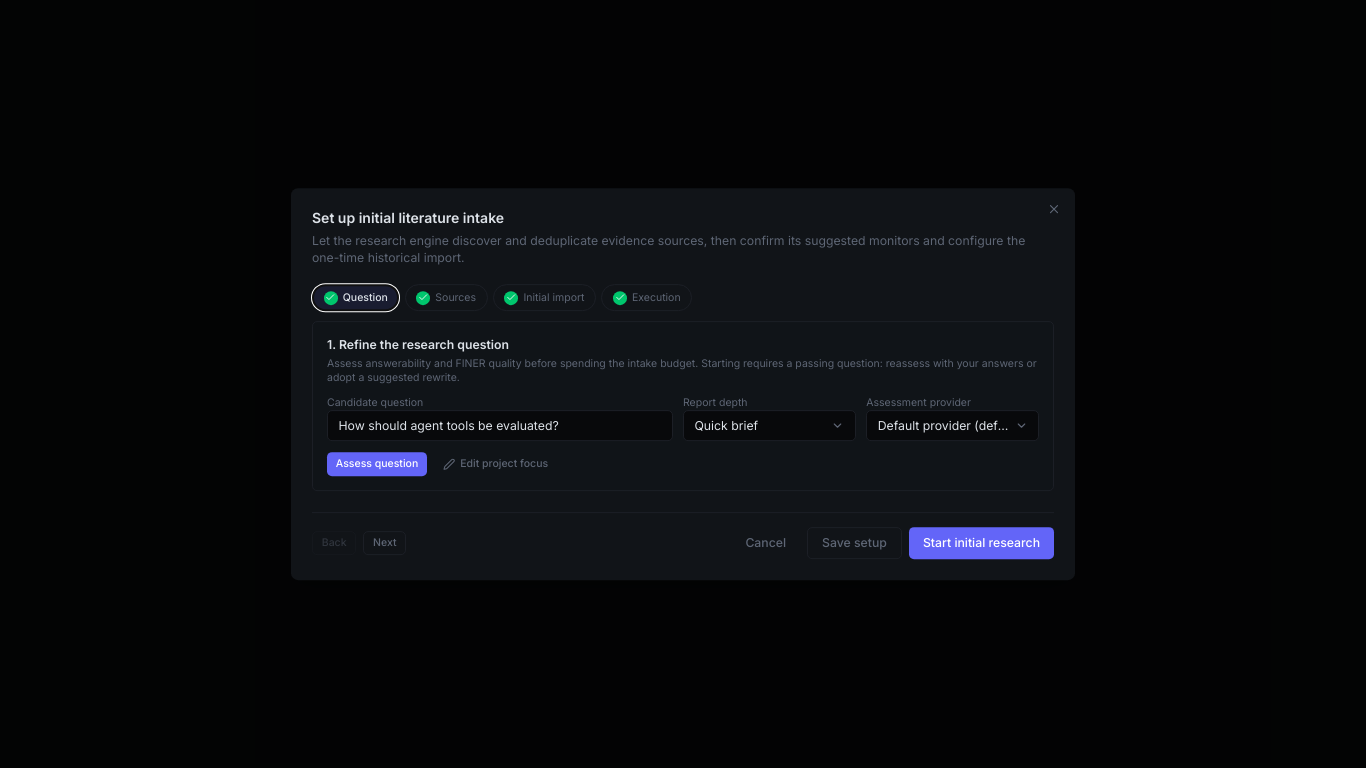
Scenario: ResearchSetupDialog › preselects the space default provider and its default model when the draft has none
Expected: the text "Default provider (default)" is shown, [878,417,1009,434]
Expected: the button "Assess question" is enabled, [327,452,427,476]
Click the button "Execution" at (647, 298), box [601,284,692,311]
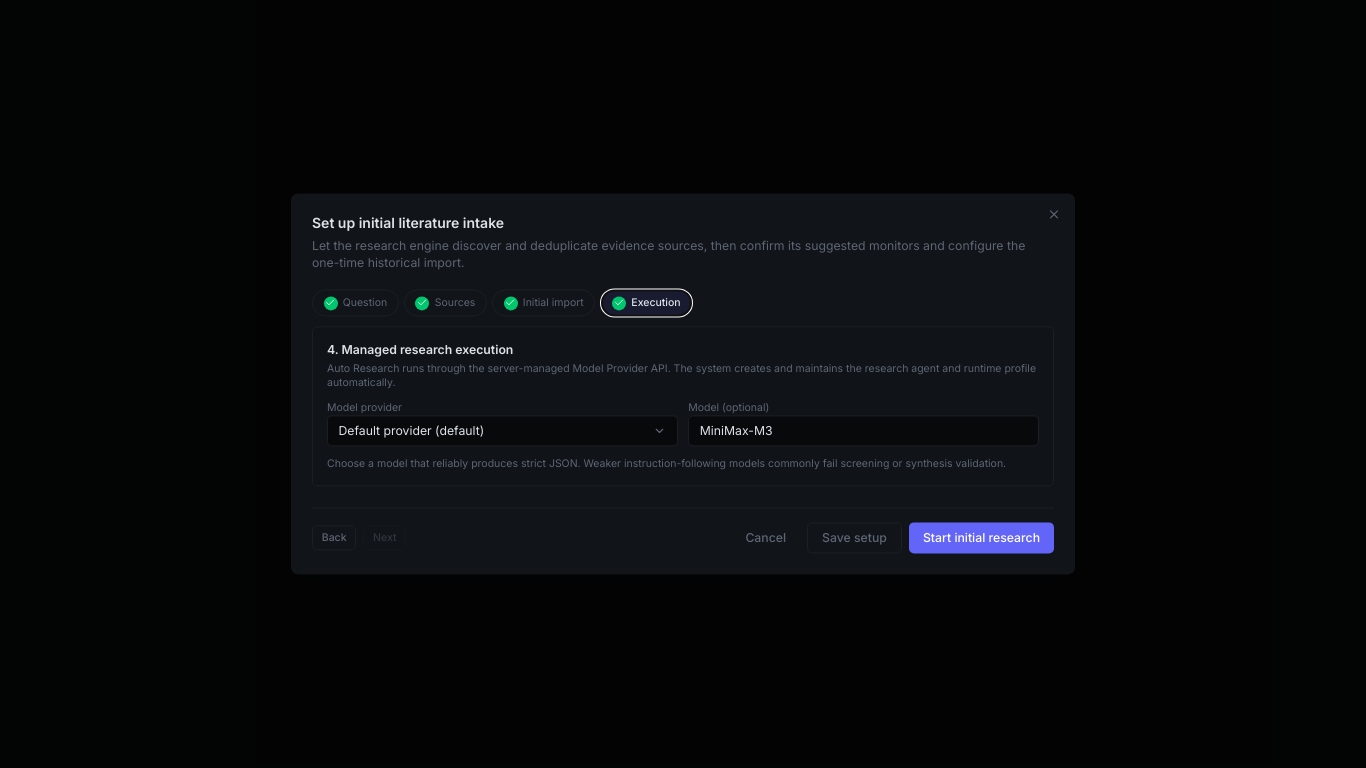
Result: the field showing "MiniMax-M3" is shown at [688,415,1039,447]
